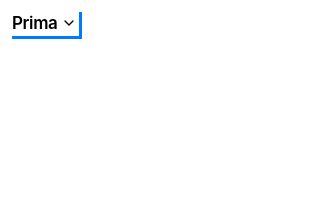
Test: selettore di campagne › con piu' campagne il menu cambia campagna; solo l'admin vede 'Nuova campagna'
The image size is (332, 217).
Earlier steps of the test are not shown.
Click the button with aria-label "Cambia campagna".
click(45, 23)  # box [12,12,78,34]
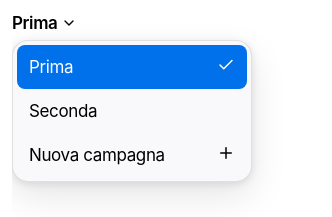
Expected: the text "Nuova campagna" is shown, [29,144,165,166]
